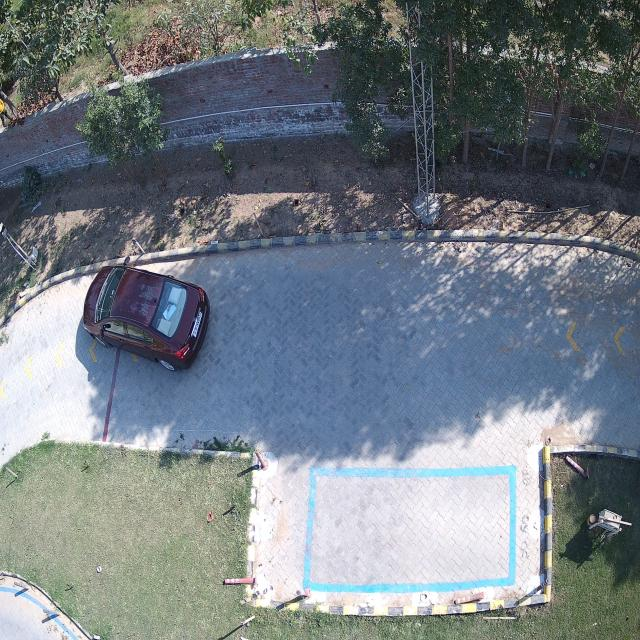car: (82, 257, 209, 370)
